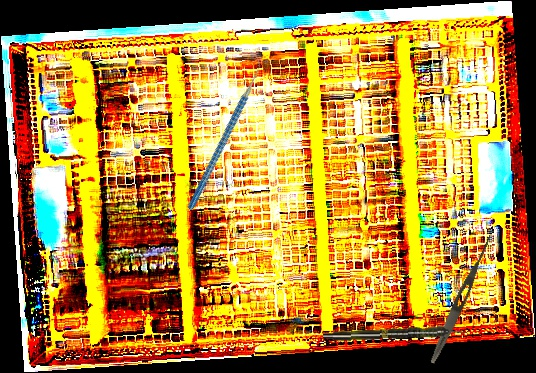Chopper: (145, 52, 303, 211)
Dressing Forceps: (426, 230, 497, 366)
Handpiece: (322, 325, 466, 343)
